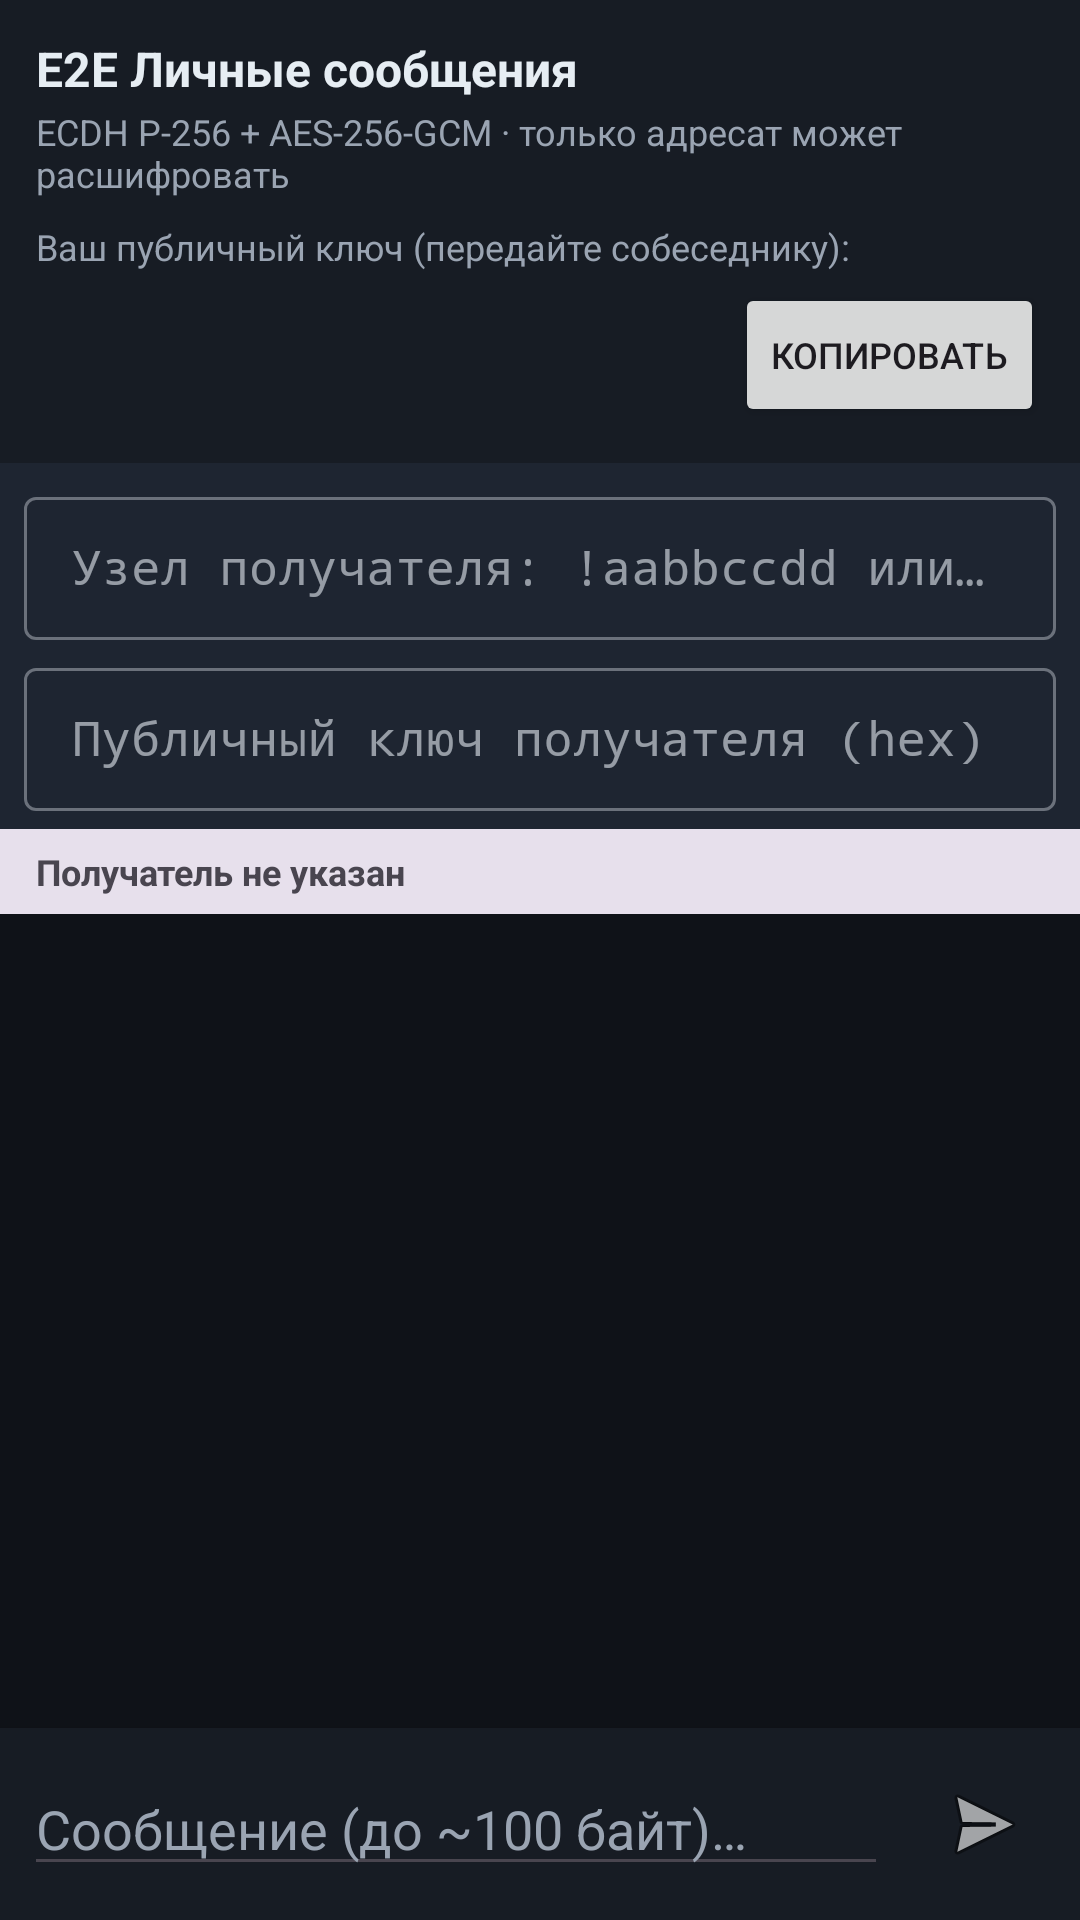

Locate icon controls on the screen. Image size 1080px x 1920px, boxes as box=[x1, y1, x2, y2].
Отправить E2E: box=[957, 1797, 1013, 1852]
